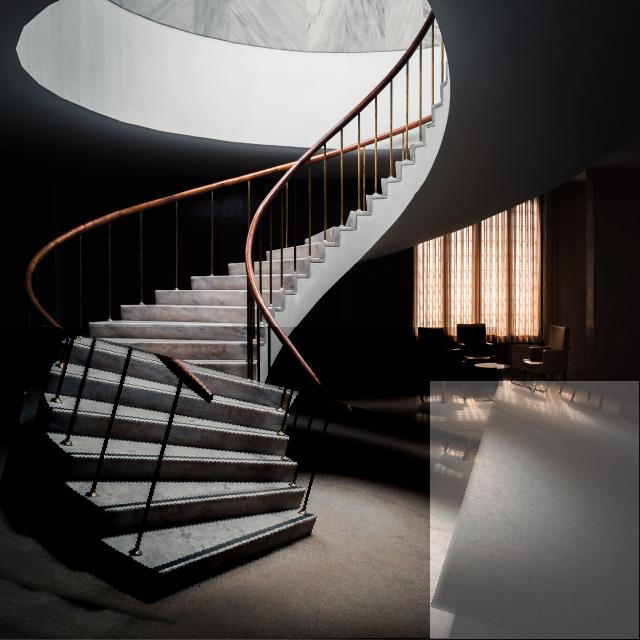floor: (0, 328, 497, 639), (430, 382, 640, 639), (474, 386, 489, 401), (487, 387, 501, 401), (499, 388, 510, 400), (497, 403, 499, 403)
